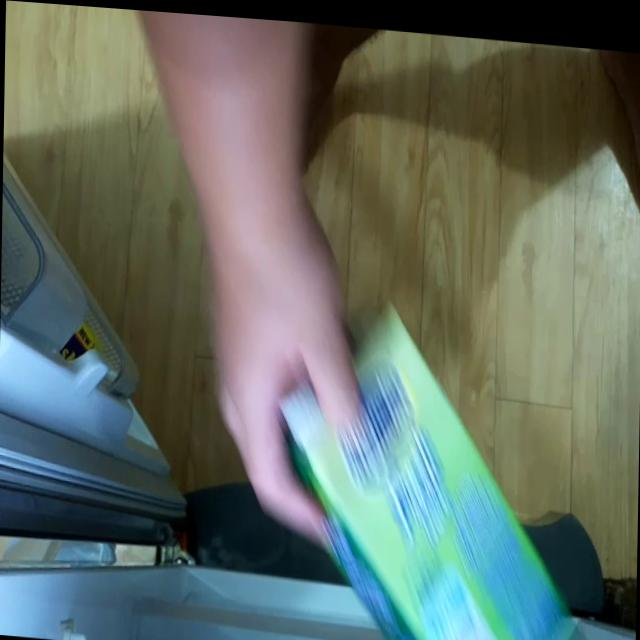milk: (279, 293, 570, 640)
